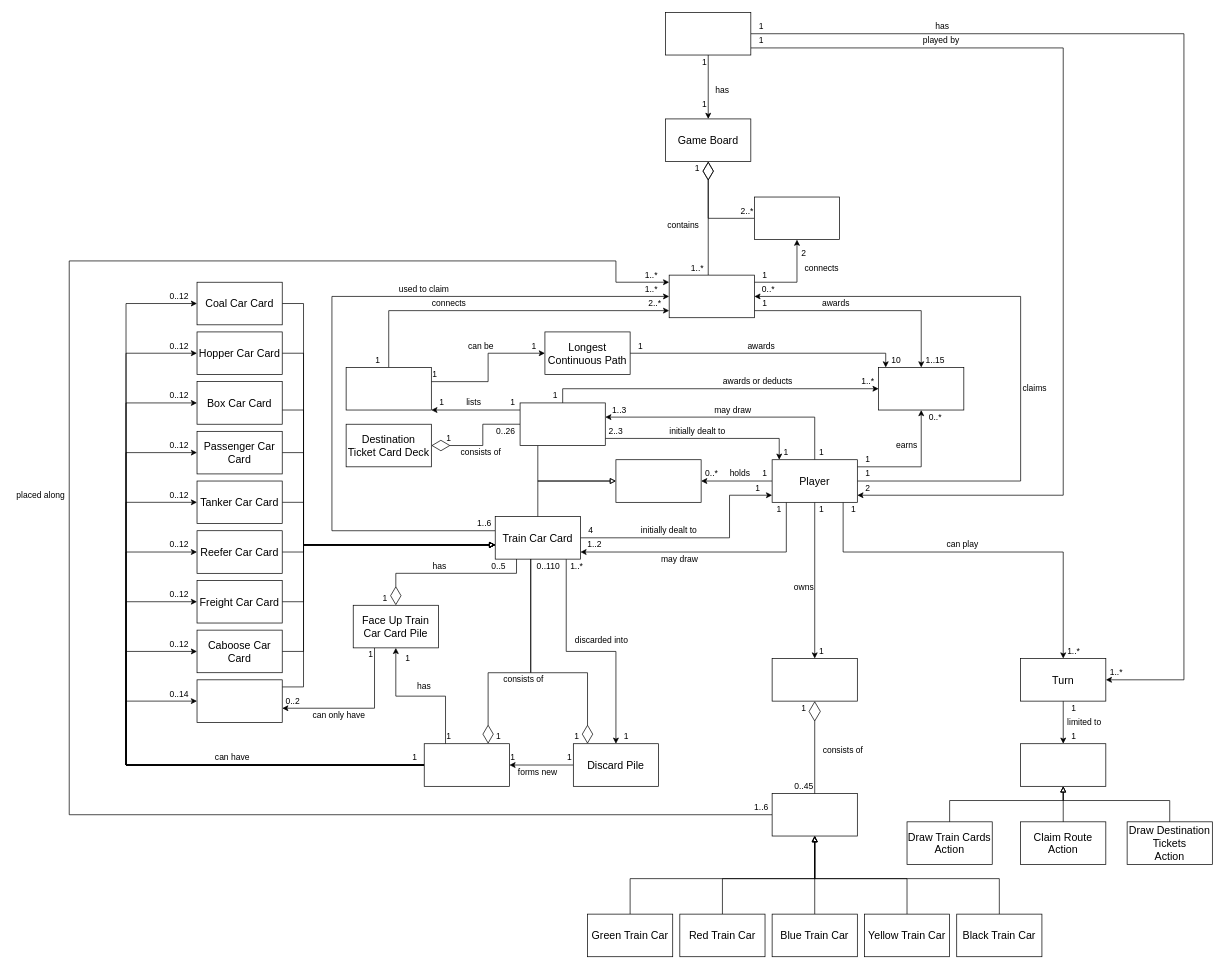
This 1225x969 diagram has some shape labels left out. Here are the shapes that lost their labels. From the top down, the centre of each, then its label:
At pixel 708 33: "Game".
At pixel 797 218: "City".
At pixel 711 296: "Route".
At pixel 388 388: "Continuous Path".
At pixel 921 388: "Point".
At pixel 562 424: "Destination Ticket Card".
At pixel 658 480: "Card".
At pixel 814 679: "Train Car Set".
At pixel 239 700: "Locomotive Car Card".
At pixel 466 764: "Train Car Card Deck".
At pixel 1063 764: "Action".
At pixel 814 814: "Train Car".
